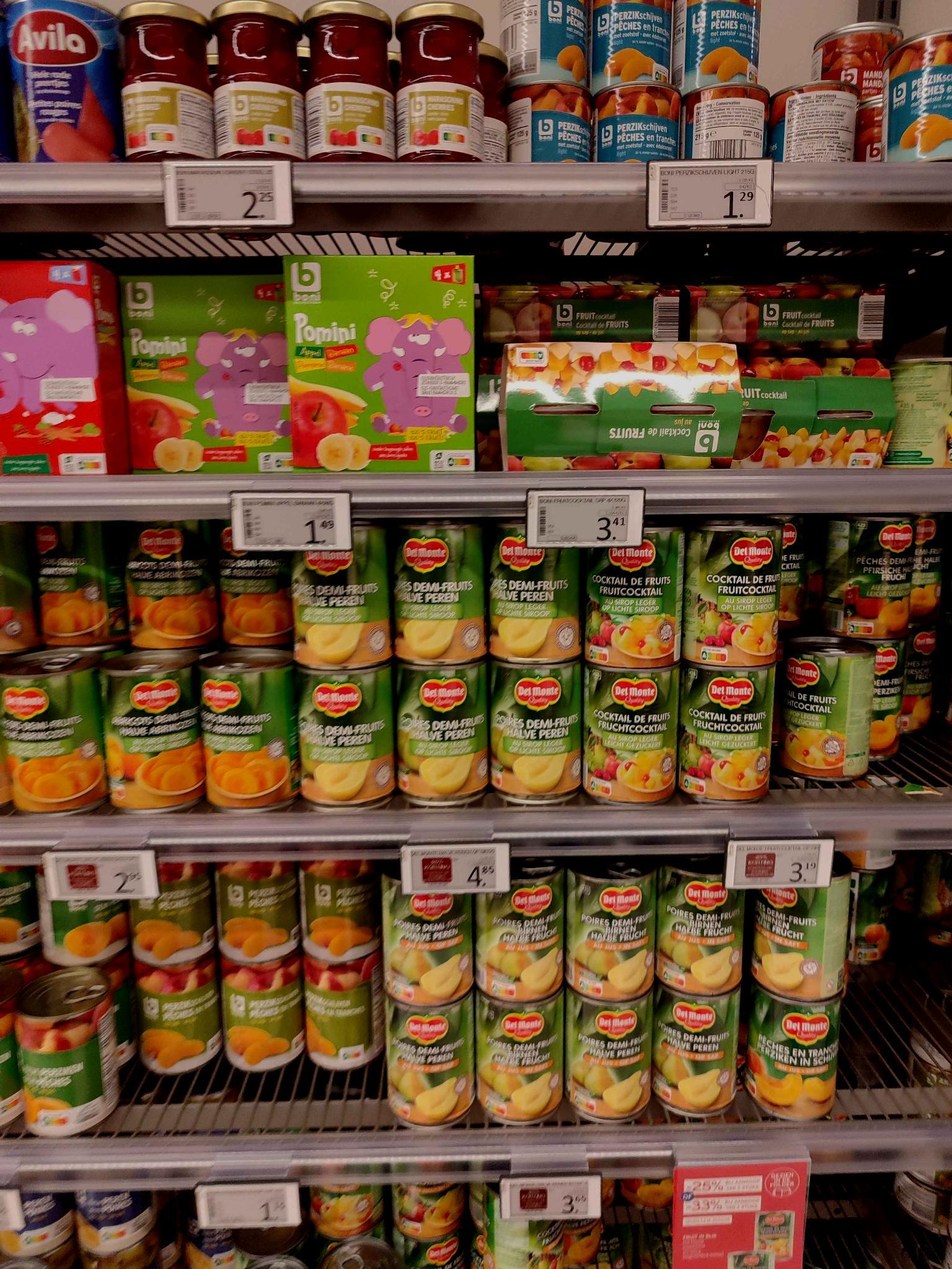nutri_A: (444, 450, 478, 472), (578, 976, 603, 999), (661, 968, 690, 987), (681, 774, 708, 793), (273, 451, 296, 470), (850, 452, 875, 467)
shelf_bottom: (4, 1155, 952, 1262)
shelf_middle: (1, 530, 952, 1131)
shelf_top: (1, 3, 952, 515)
